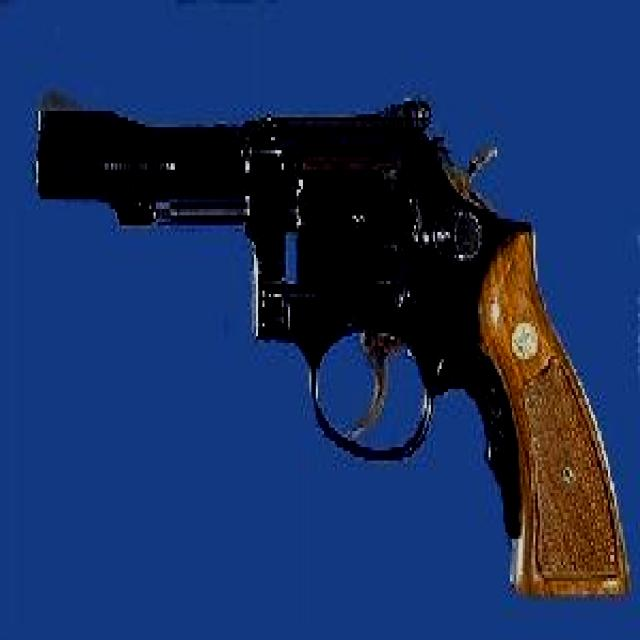pistol: (38, 85, 636, 591)
